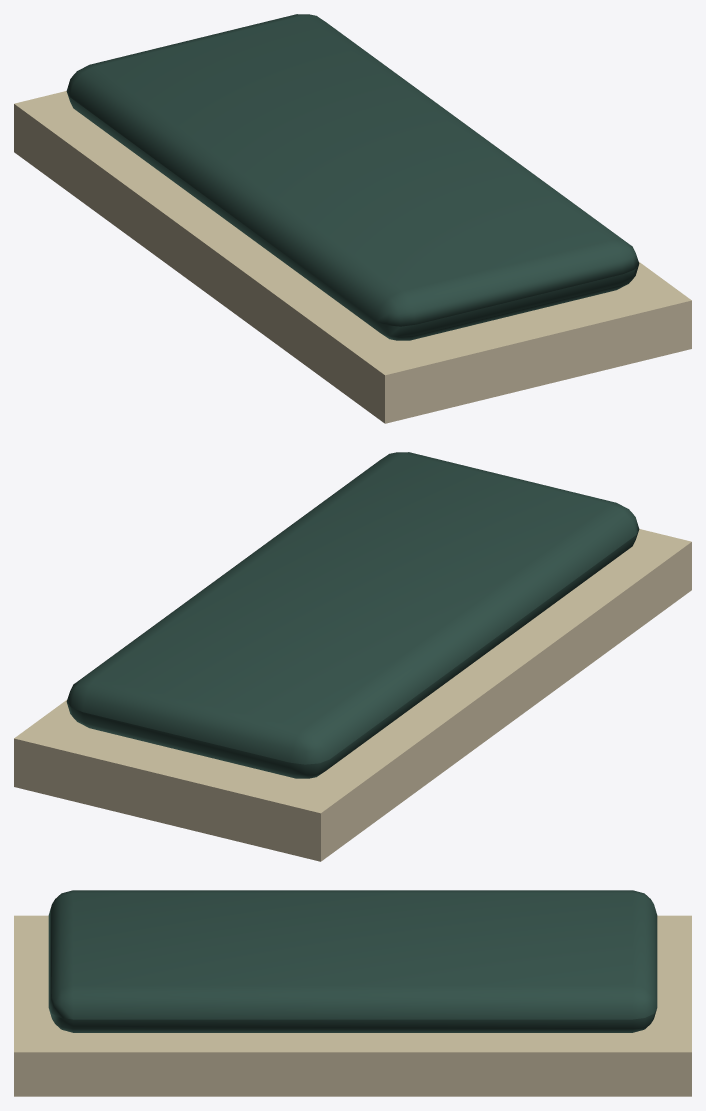
Rendered from bed.fbx.
3 renders of one model, top to bottom at view 1: azimuth 30°, elevation 25°; view 2: azimuth 150°, elevation 25°; view 3: azimuth 270°, elevation 25°, orthographic. The views are drawn at different scales.
Parts seen in each view (by area): view 1: bed, bed base; view 2: bed, bed base; view 3: bed, bed base.
Boxes of the visible parts, left/top/right/bottom form: bed: left=66, top=14, right=639, bottom=340; bed base: left=14, top=91, right=691, bottom=423; bed: left=66, top=452, right=639, bottom=778; bed base: left=14, top=529, right=691, bottom=861; bed: left=48, top=890, right=657, bottom=1032; bed base: left=14, top=915, right=691, bottom=1096.
Bounding box in the file's own units: 603 × 183 × 1262.
1 material, 1 textured.
